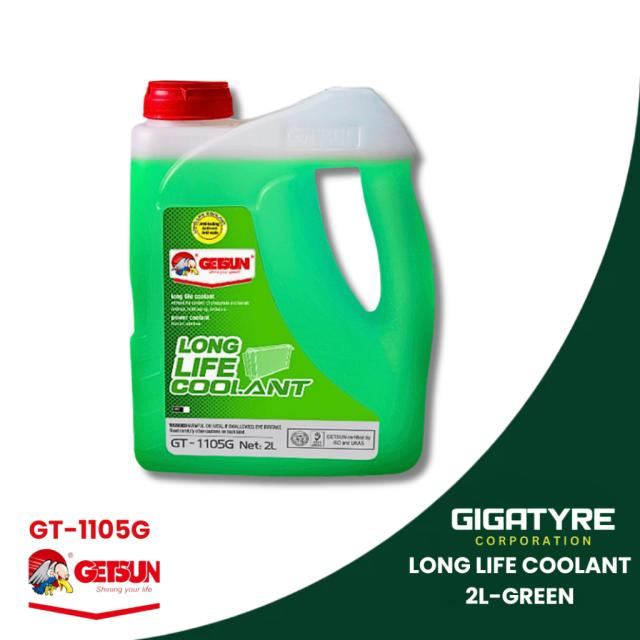coolant: (126, 75, 445, 489)
